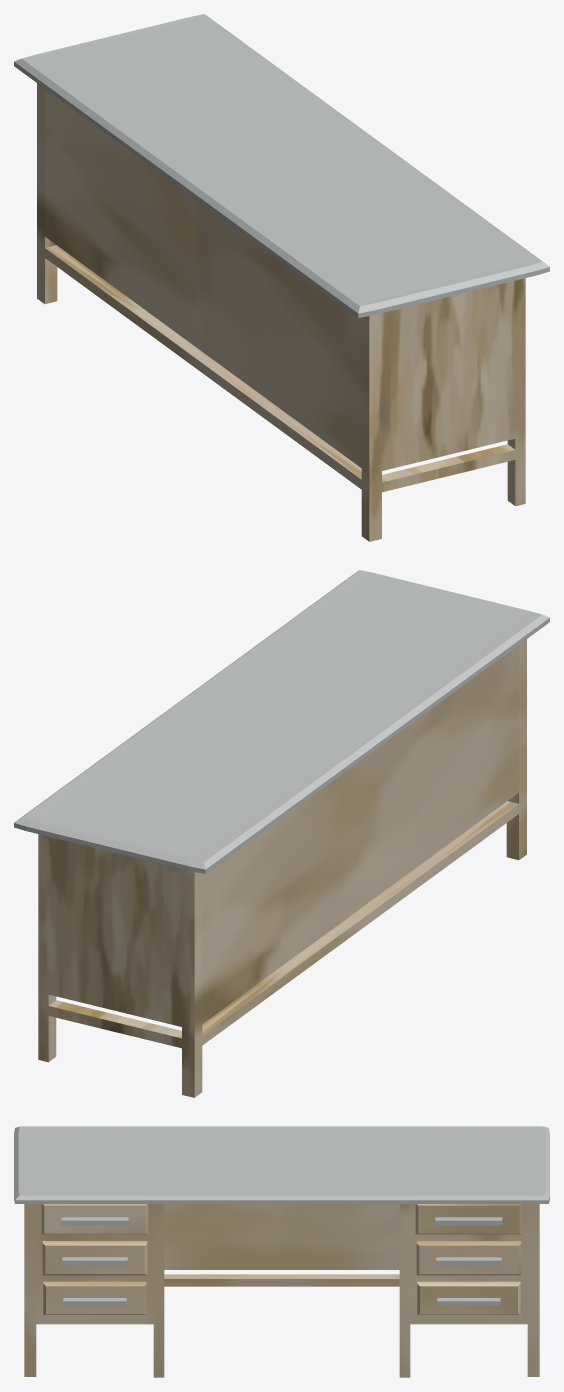
The model's file is office table.fbx.
3 renders of one model, top to bottom at view 1: azimuth 30°, elevation 25°; view 2: azimuth 150°, elevation 25°; view 3: azimuth 270°, elevation 25°, orthographic. The views are drawn at different scales.
Parts seen in each view (by area): view 1: Cube.023; view 2: Cube.023; view 3: Cube.023.
Part boxes in pixels (<box>): Cube.023: <box>14,14,549,541</box>; Cube.023: <box>14,570,549,1097</box>; Cube.023: <box>14,1126,549,1377</box>.
Size of the model in its own units: 171 by 206 by 535.
